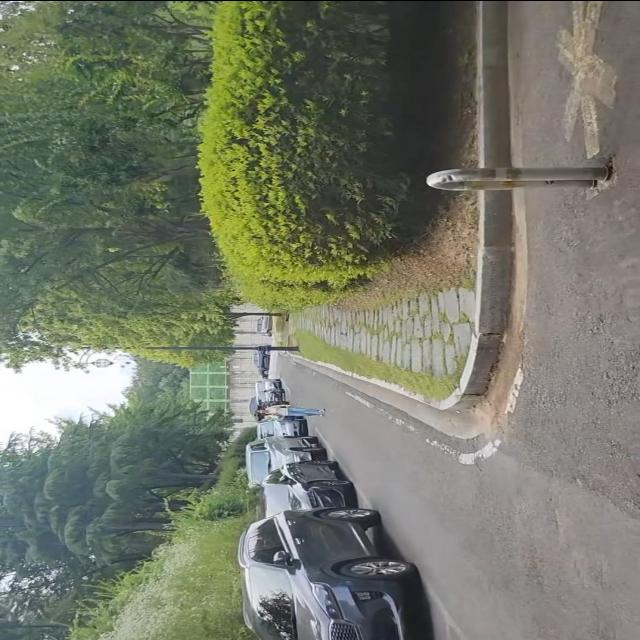obstacle: (223, 499, 430, 640), (233, 428, 366, 520), (415, 150, 624, 203), (69, 342, 303, 374), (242, 400, 327, 422)
road: (279, 0, 640, 640)
sidewalk: (282, 289, 479, 395)
